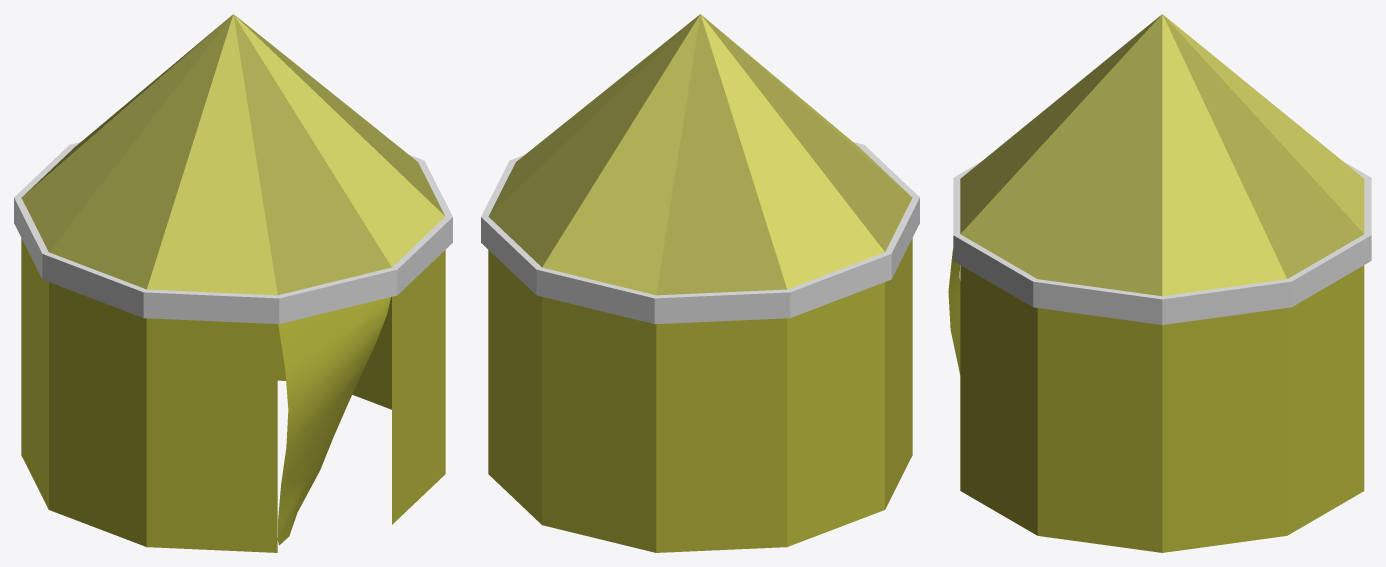
File: GoldTent.fbx
The picture shows the model from 3 angles, left to right: view 1: azimuth 30°, elevation 25°; view 2: azimuth 150°, elevation 25°; view 3: azimuth 270°, elevation 25°; orthographic projection.
Parts seen in each view (by area): view 1: TENT; view 2: TENT; view 3: TENT.
Boxes of the visible parts, x1=… form: TENT: x1=14, y1=14, x2=452, y2=552; TENT: x1=481, y1=14, x2=919, y2=552; TENT: x1=948, y1=14, x2=1371, y2=552.
Bounding box in the file's own units: 6.21 × 7 × 5.97.
